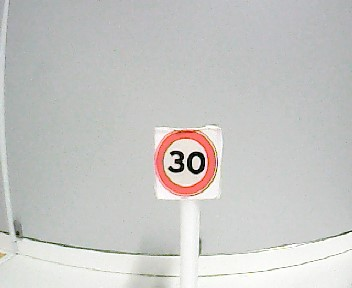30-bord: (156, 129, 218, 195)
